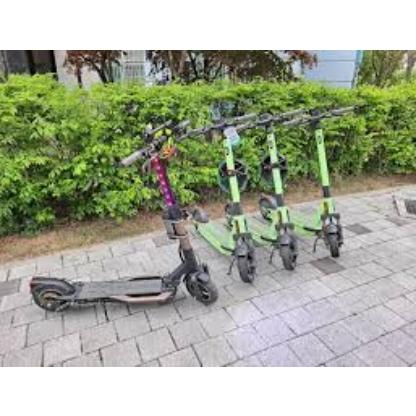bike: (29, 121, 222, 318), (28, 208, 220, 319), (258, 195, 300, 272)
